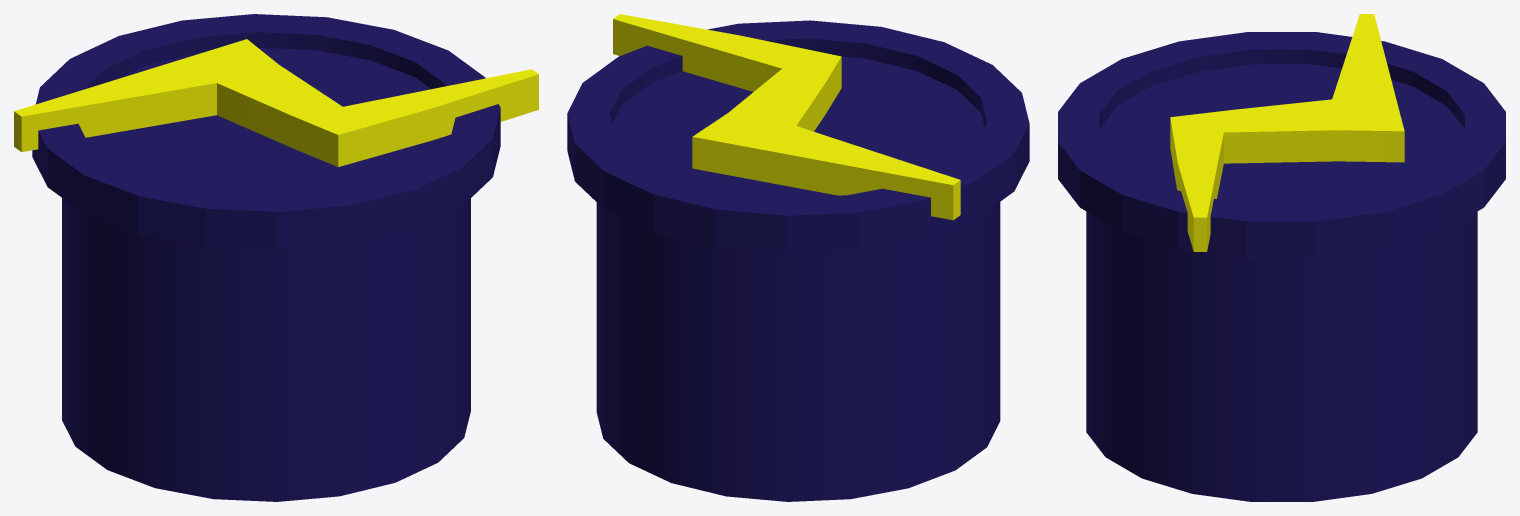
The model's file is elektrik.fbx.
The picture shows the model from 3 angles, left to right: view 1: azimuth 30°, elevation 25°; view 2: azimuth 150°, elevation 25°; view 3: azimuth 270°, elevation 25°; orthographic projection. The views are drawn at different scales.
Parts seen in each view (by area): view 1: elektrik; view 2: elektrik; view 3: elektrik.
Boxes of the visible parts, bbox=[...] form: elektrik: bbox=[14, 14, 538, 501]; elektrik: bbox=[567, 14, 1029, 501]; elektrik: bbox=[1058, 14, 1505, 501].
Bounding box in the file's own units: 2.75 × 1.95 × 2.56.
1 material, 1 textured.
